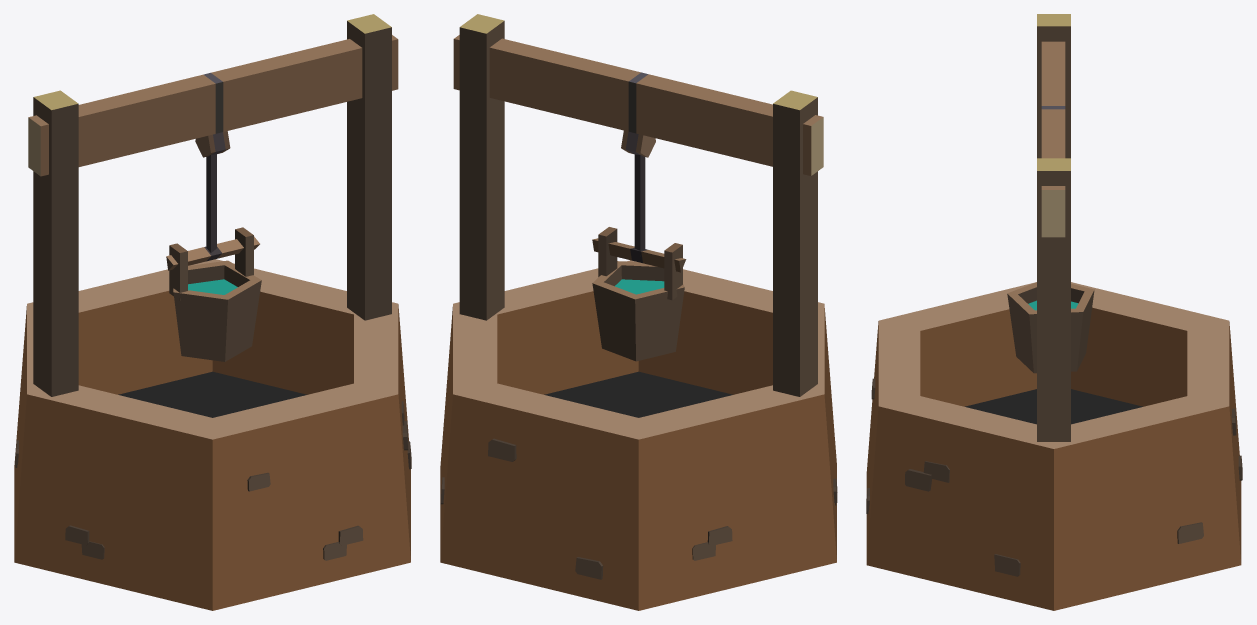
Rendered from TB_D_Bd_Well_A.FBX.
3 views of the same model, side by side, from view 1: azimuth 30°, elevation 25°; view 2: azimuth 150°, elevation 25°; view 3: azimuth 270°, elevation 25° (orthographic). The views are drawn at different scales.
Parts seen in each view (by area): view 1: TB_D_Bd_Well_A; view 2: TB_D_Bd_Well_A; view 3: TB_D_Bd_Well_A.
Boxes of the visible parts, box(x1,y1,x2,y2) form: TB_D_Bd_Well_A: box(14, 14, 411, 610); TB_D_Bd_Well_A: box(440, 14, 837, 610); TB_D_Bd_Well_A: box(866, 14, 1242, 610).
Size of the model in its own units: 2.58 by 2.81 by 2.24.
